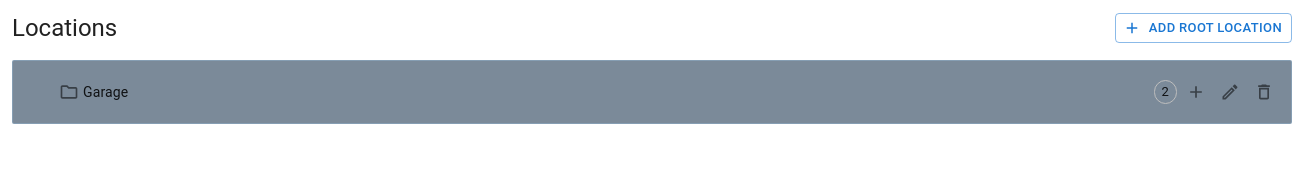
Test: LocationsPage › renames a location and invalidates the list
Expected: the link "Garage" is shown, [83,84,128,100]
Click the button named "Rename Garage".
click(1230, 92)  # box [1215,77,1245,107]
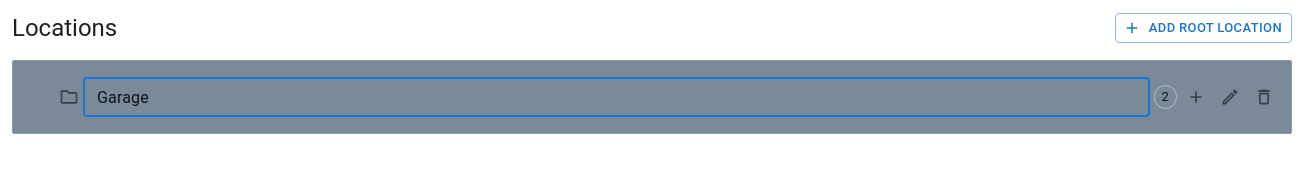
Replace the text in the field named "Rename Garage" with "Garage HQ" at x=616, y=97, box [83,77,1150,117]
Then press Enter
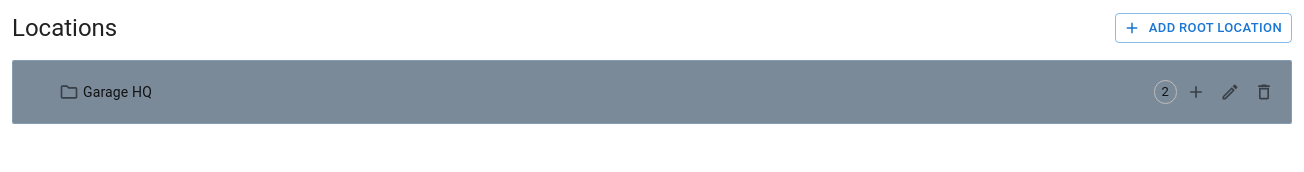
Now the link "Garage HQ" is shown, box [83,84,152,100]
